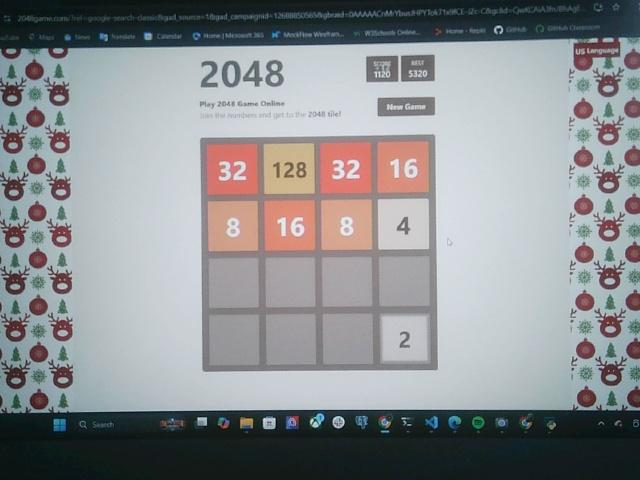board: (202, 137, 435, 370)
tile: (264, 200, 316, 251), (206, 144, 259, 194), (265, 143, 316, 194), (322, 200, 373, 251), (321, 143, 371, 194), (378, 141, 428, 192), (208, 201, 259, 251), (379, 200, 429, 250), (382, 315, 431, 363)
